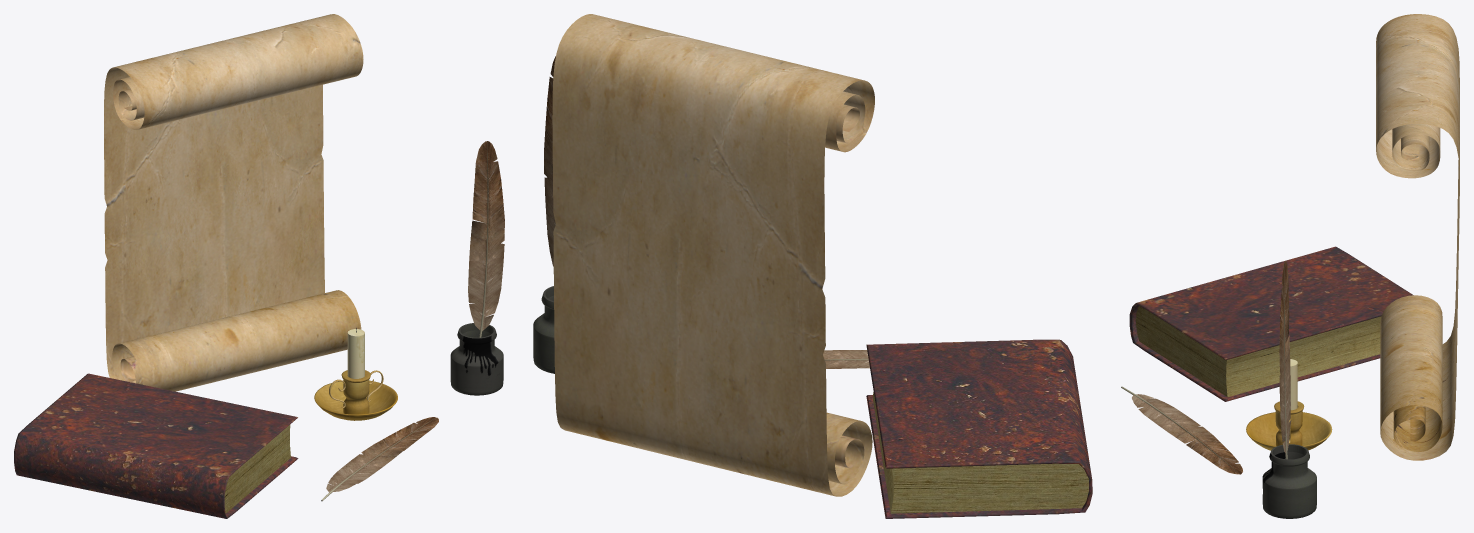
Rendered from libro.glb.
3 views of the same model, side by side, from view 1: azimuth 30°, elevation 25°; view 2: azimuth 150°, elevation 25°; view 3: azimuth 270°, elevation 25° (orthographic). The views are drawn at different scales.
Visible parts, largest first — view 1: Scroll, Book, Feather1, Candle, ink_bottle, Feather2; view 2: Scroll, Book, ink_bottle, Feather1, Feather2; view 3: Book, Scroll, ink_bottle, Candle, Feather2, Feather1.
Part boxes in pixels (box(x1,y1,x2,y2)): Scroll: box(104, 14, 363, 391); Book: box(14, 373, 298, 518); Feather1: box(468, 141, 504, 337); Candle: box(314, 327, 397, 420); ink_bottle: box(450, 323, 503, 395); Feather2: box(321, 417, 438, 501); Scroll: box(552, 14, 874, 496); Book: box(866, 339, 1092, 518); ink_bottle: box(533, 286, 554, 373); Feather1: box(544, 56, 555, 266); Feather2: box(823, 350, 869, 368); Book: box(1129, 246, 1413, 401); Scroll: box(1376, 14, 1459, 460); ink_bottle: box(1262, 444, 1316, 518); Candle: box(1246, 359, 1332, 450); Feather2: box(1121, 386, 1242, 474); Feather1: box(1279, 261, 1291, 459).
Bounding box in the file's own units: 0.4889 × 0.3395 × 0.2992.
Materials: 6 (6 with a texture image).
